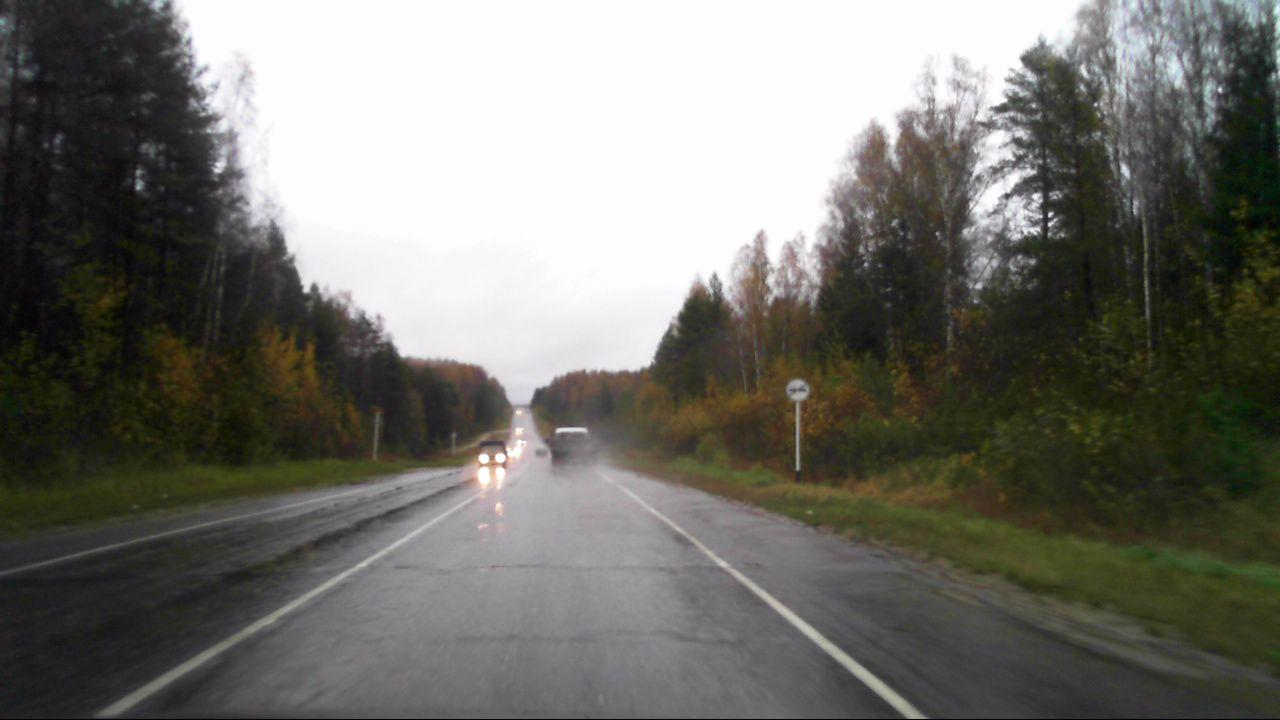3_21: (783, 376, 812, 402)
